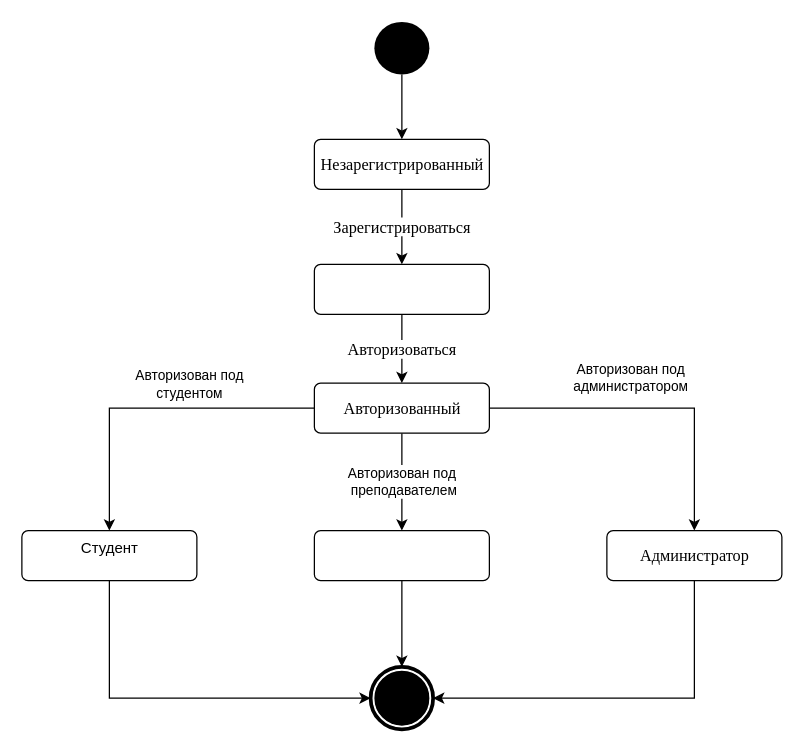
Some shapes in this 804 by 751 pixel diagram are drawn without their labels. The shapes that lost their labels are listed below. From the top down, each one's centre as x and y in pixels, then its label:
At pixel 401 288: "Зарегистрированный".
At pixel 401 555: "Преподаватель".
